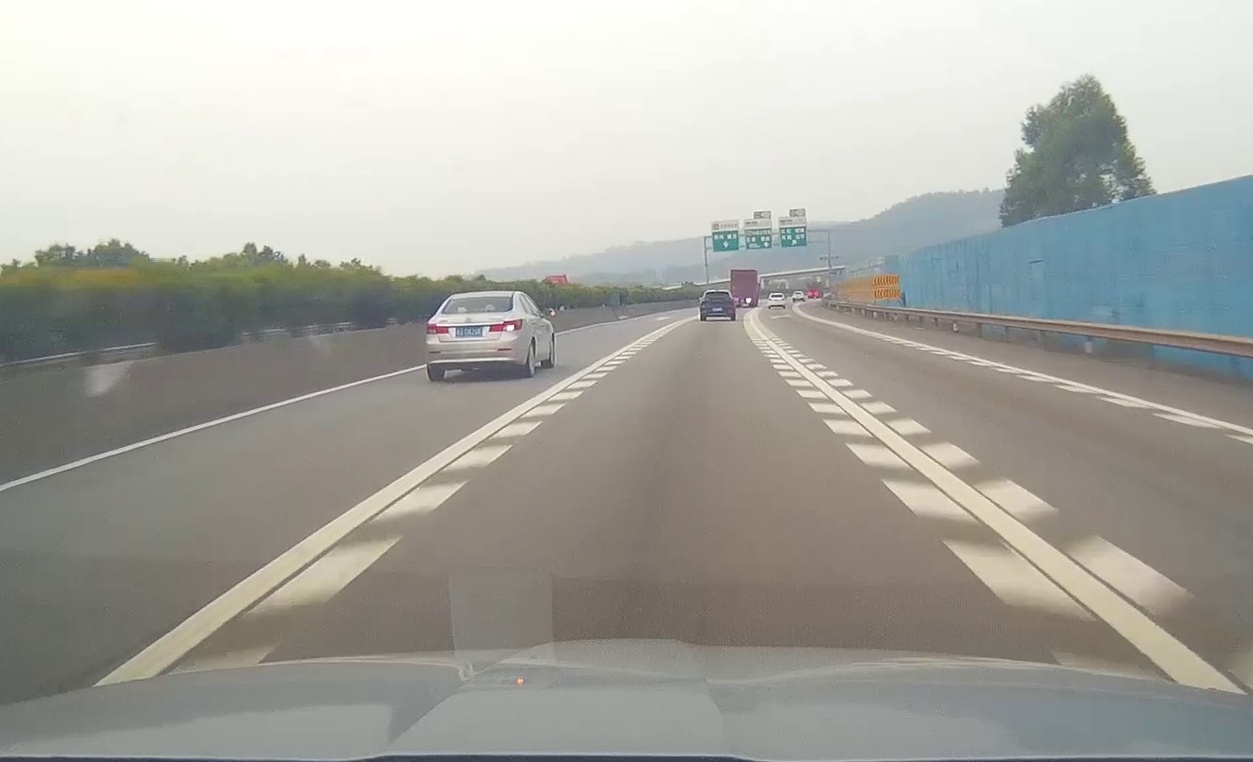L_light: (427, 323, 448, 334)
R_light: (489, 318, 522, 332)
T_light: (471, 297, 487, 300)
day-right: (425, 292, 524, 382)
